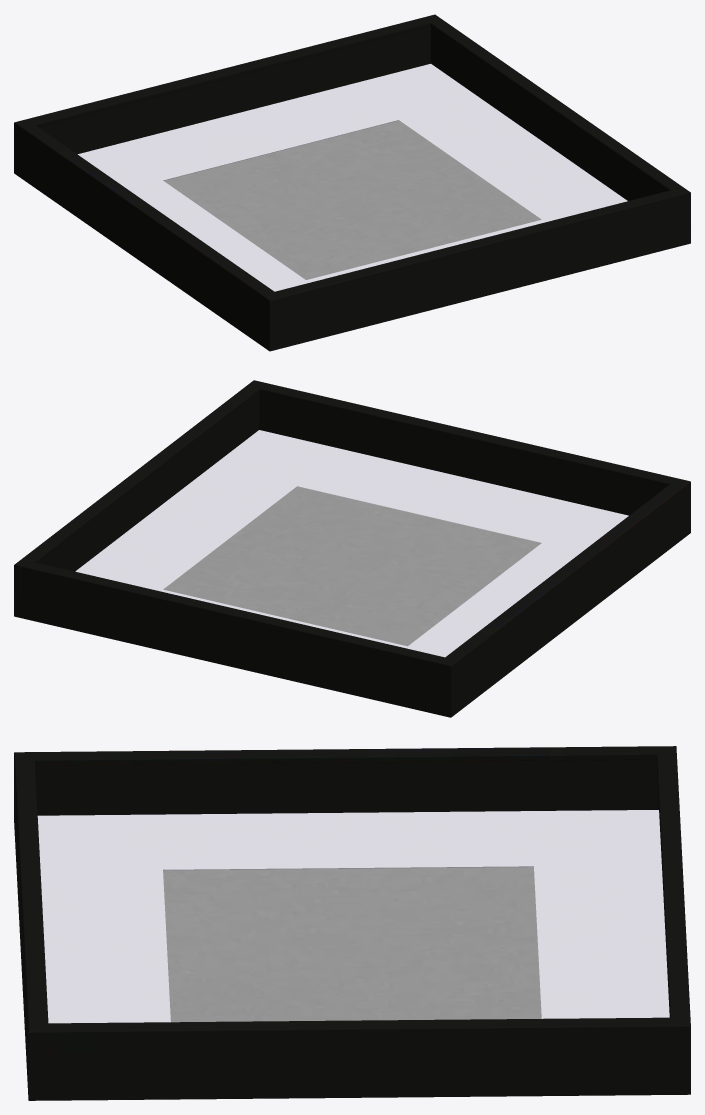
Rendered from frame-large.glb.
The picture shows the model from 3 angles, top to bottom: view 1: azimuth 30°, elevation 25°; view 2: azimuth 150°, elevation 25°; view 3: azimuth 270°, elevation 25°; orthographic projection. The views are drawn at different scales.
Parts seen in each view (by area): view 1: 1; view 2: 1; view 3: 1.
Part boxes in pixels (bbox=[...]): 1: bbox=[14, 14, 690, 351]; 1: bbox=[14, 380, 690, 717]; 1: bbox=[14, 746, 690, 1100].
Bounding box in the file's own units: 0.5292 × 0.0604 × 0.5292.
2 materials, 2 textured.
